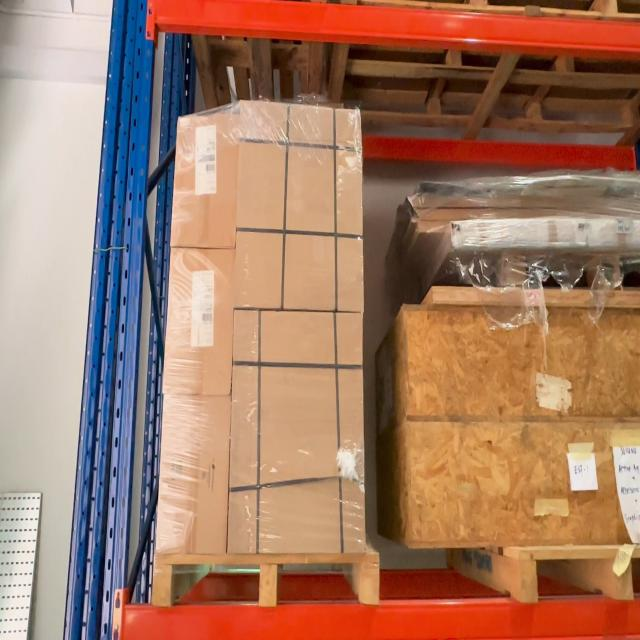box: (231, 314, 362, 554), (241, 104, 355, 312), (157, 395, 230, 556), (162, 244, 233, 394), (171, 111, 239, 250), (221, 550, 225, 552)
